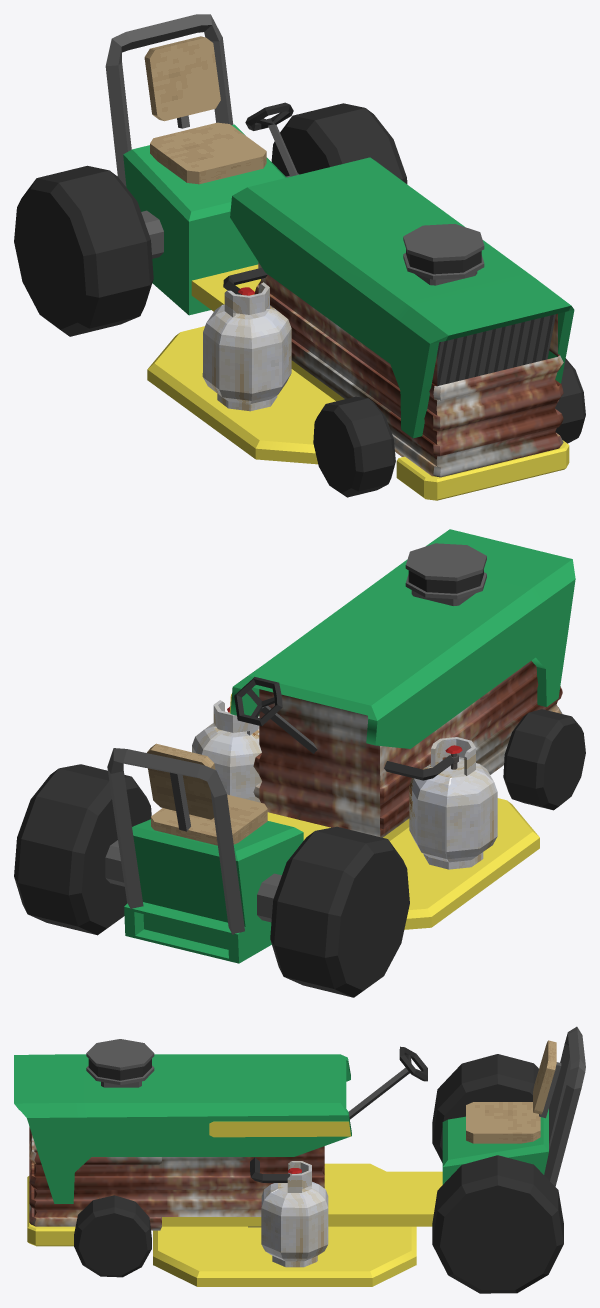
Rendered from Mower_v02.fbx.
3 renders of one model, top to bottom at view 1: azimuth 30°, elevation 25°; view 2: azimuth 150°, elevation 25°; view 3: azimuth 270°, elevation 25°, orthographic. The views are drawn at different scales.
Parts seen in each view (by area): view 1: GreeCover, Iron, Tyre2, SeatBase1, Seat, BladesBase, Propane2, Tyre3, Tyre, BackBars, Radiator, Bumper (+6 smaller); view 2: GreeCover, Iron, Tyre2, SeatBase1, Tyre, Propane2, BladesBase, Tyre3, BackBars, Seat, Propane1, polySurface6 (+6 smaller); view 3: GreeCover, Tyre, Iron, BladesBase, MowerBase, Propane1, Tyre1, Tyre2, Seat, BackBars, SeatBase1, LogoSide (+6 smaller).
Boxes of the visible parts, x1,y1,x2,y2 form: GreeCover: (230,157,574,438); Iron: (254,262,563,477); Tyre2: (14,165,153,336); SeatBase1: (123,124,286,315); Seat: (144,36,266,184); BladesBase: (147,326,335,464); Propane2: (202,282,291,411); Tyre3: (313,396,395,497); Tyre: (271,103,407,183); BackBars: (105,14,233,186); Radiator: (437,314,555,385); Bumper: (396,440,569,500); GreeCover: (230,529,575,748); Iron: (253,660,562,837); Tyre2: (270,826,409,997); SeatBase1: (124,819,303,963); Tyre: (14,764,151,935); Propane2: (409,737,497,869); BladesBase: (390,798,539,929); Tyre3: (503,709,585,810); BackBars: (107,748,244,934); Seat: (147,743,267,845); Propane1: (192,700,261,802); polySurface6: (405,543,486,599); GreeCover: (14,1054,351,1203); Tyre: (432,1155,563,1293); Iron: (29,1127,324,1230); BladesBase: (153,1163,416,1286); MowerBase: (162,1171,442,1226); Propane1: (261,1161,328,1267); Tyre1: (74,1195,151,1277); Tyre2: (432,1054,549,1162); Seat: (466,1040,556,1143); BackBars: (544,1026,585,1186); SeatBase1: (442,1109,548,1184); LogoSide: (209,1121,350,1137).
Bounding box in the file's own units: 25.65 × 17.69 × 48.43.
6 materials, 4 textured.
